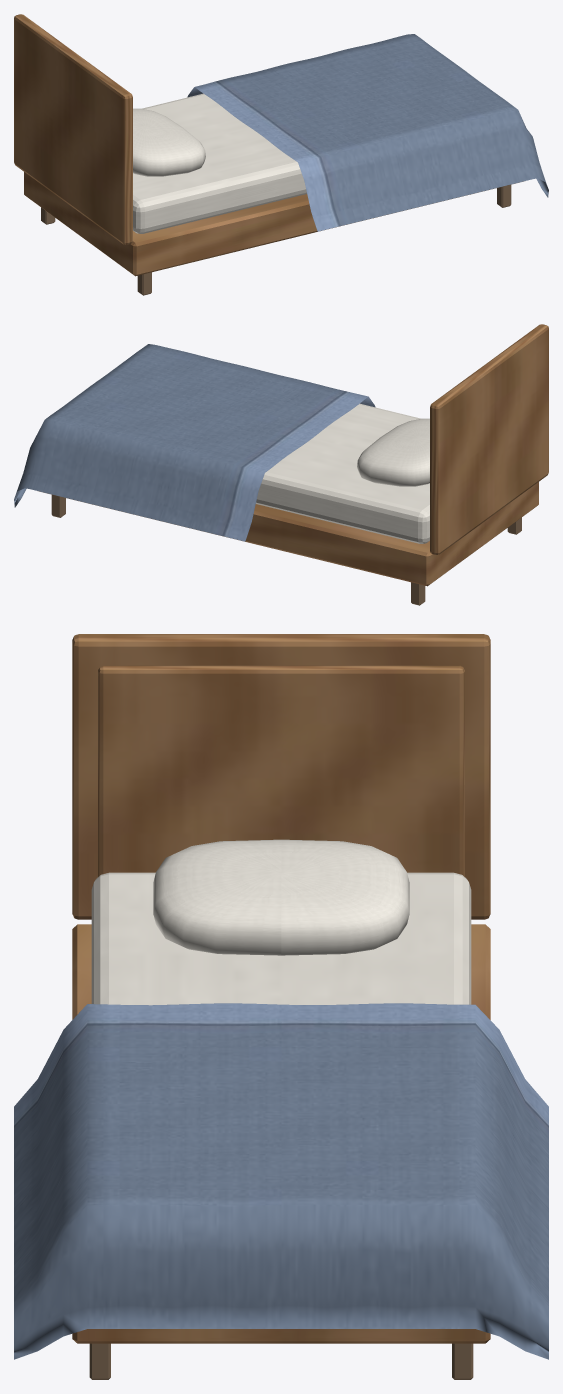
Rendered from bed5.glb.
The picture shows the model from 3 angles, top to bottom: view 1: azimuth 30°, elevation 25°; view 2: azimuth 150°, elevation 25°; view 3: azimuth 270°, elevation 25°; orthographic projection. The views are drawn at different scales.
Parts seen in each view (by area): view 1: Blanket, Headboard, Mattress, Frame, Pillow; view 2: Blanket, Headboard, Mattress, Frame, Pillow; view 3: Blanket, HeadPanel, Mattress, Pillow, Headboard, Frame.
Boxes of the visible parts, box(x1,y1,x2,y2) form: Blanket: box(187, 34, 548, 231); Headboard: box(14, 14, 132, 244); Mattress: box(133, 93, 306, 233); Frame: box(24, 172, 523, 276); Pillow: box(133, 108, 205, 176); Blanket: box(14, 344, 375, 541); Headboard: box(430, 324, 548, 554); Mattress: box(256, 403, 429, 543); Frame: box(39, 482, 538, 586); Pillow: box(357, 418, 429, 486); Blanket: box(14, 1003, 548, 1359); HeadPanel: box(98, 665, 464, 876); Mattress: box(91, 872, 471, 1005); Pillow: box(153, 839, 409, 955); Headboard: box(72, 634, 490, 919); Frame: box(72, 924, 490, 1343).
Size of the model in its own units: 2.05 by 1 by 1.24.
Materials: 4 (3 with a texture image).
